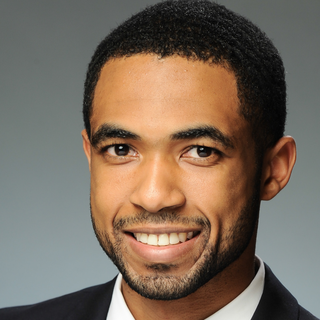eye: (180, 140, 227, 165), (98, 138, 139, 165)
